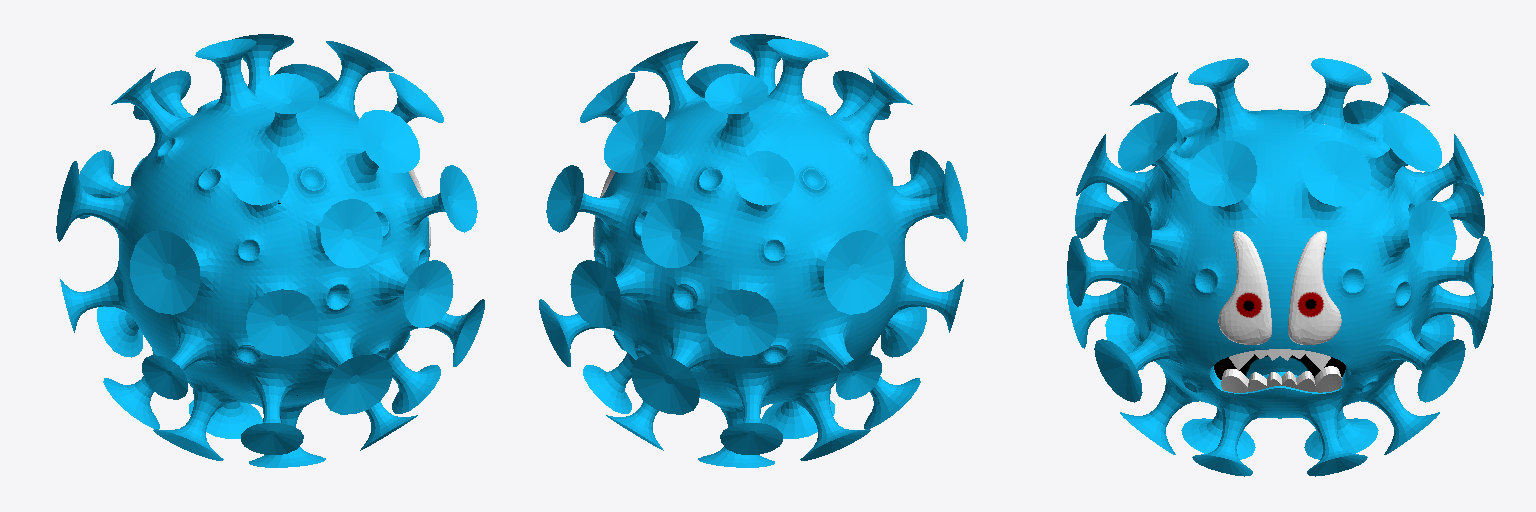
3 renders of one model, left to right at view 1: azimuth 30°, elevation 25°; view 2: azimuth 150°, elevation 25°; view 3: azimuth 270°, elevation 25°, orthographic.
Visible parts, largest first — view 1: Cube.001_Cube.002; view 2: Cube.001_Cube.002; view 3: Cube.001_Cube.002.
Boxes of the visible parts, <box> form: Cube.001_Cube.002: <box>56,34,484,467</box>; Cube.001_Cube.002: <box>539,34,967,467</box>; Cube.001_Cube.002: <box>1066,58,1493,476</box>.
Size of the model in its own units: 1.99 by 2.31 by 2.33.
Materials: 1 (1 with a texture image).